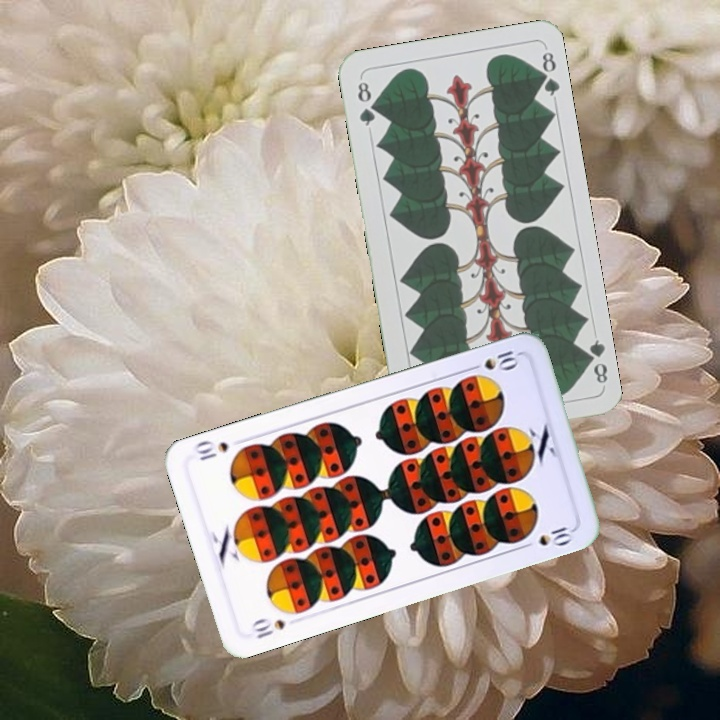G8: (579, 335, 610, 386), (353, 77, 379, 129)
S10: (464, 346, 522, 374), (248, 615, 288, 641)
